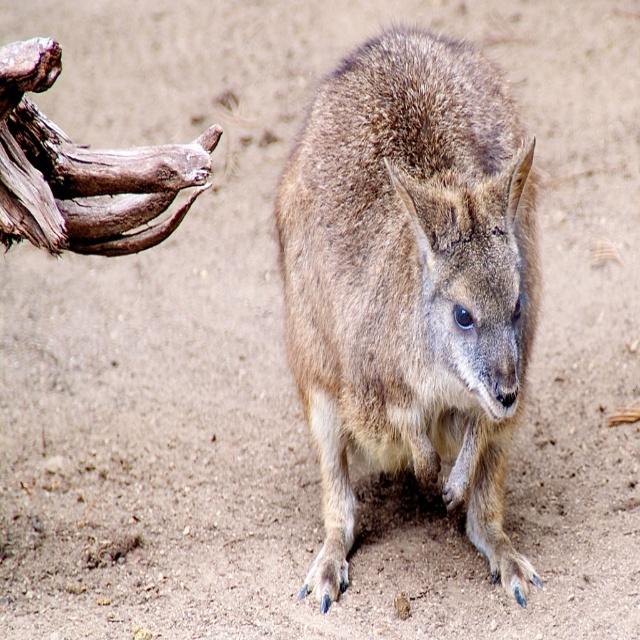Kangaroo: (266, 21, 542, 623)
